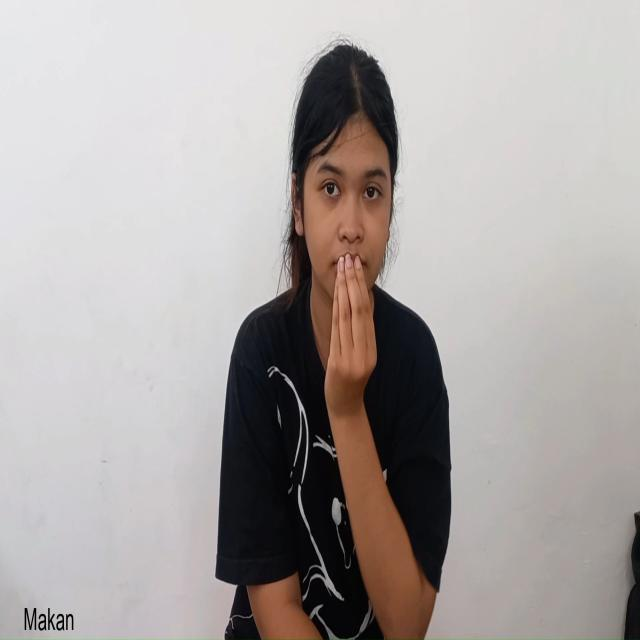Makan -BISINDO-: (276, 36, 410, 424)
